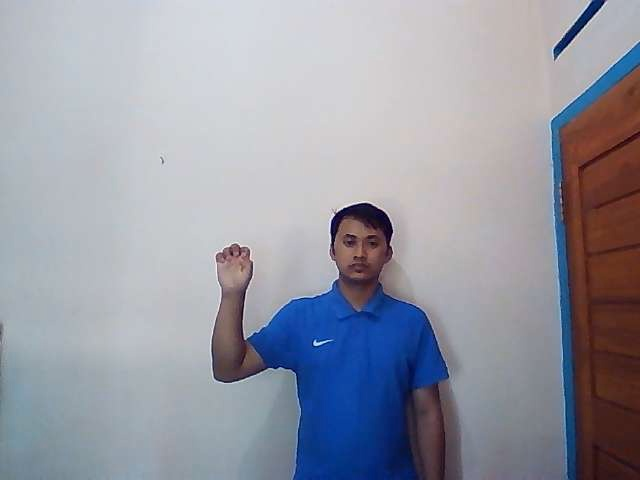E: (214, 242, 255, 293)
